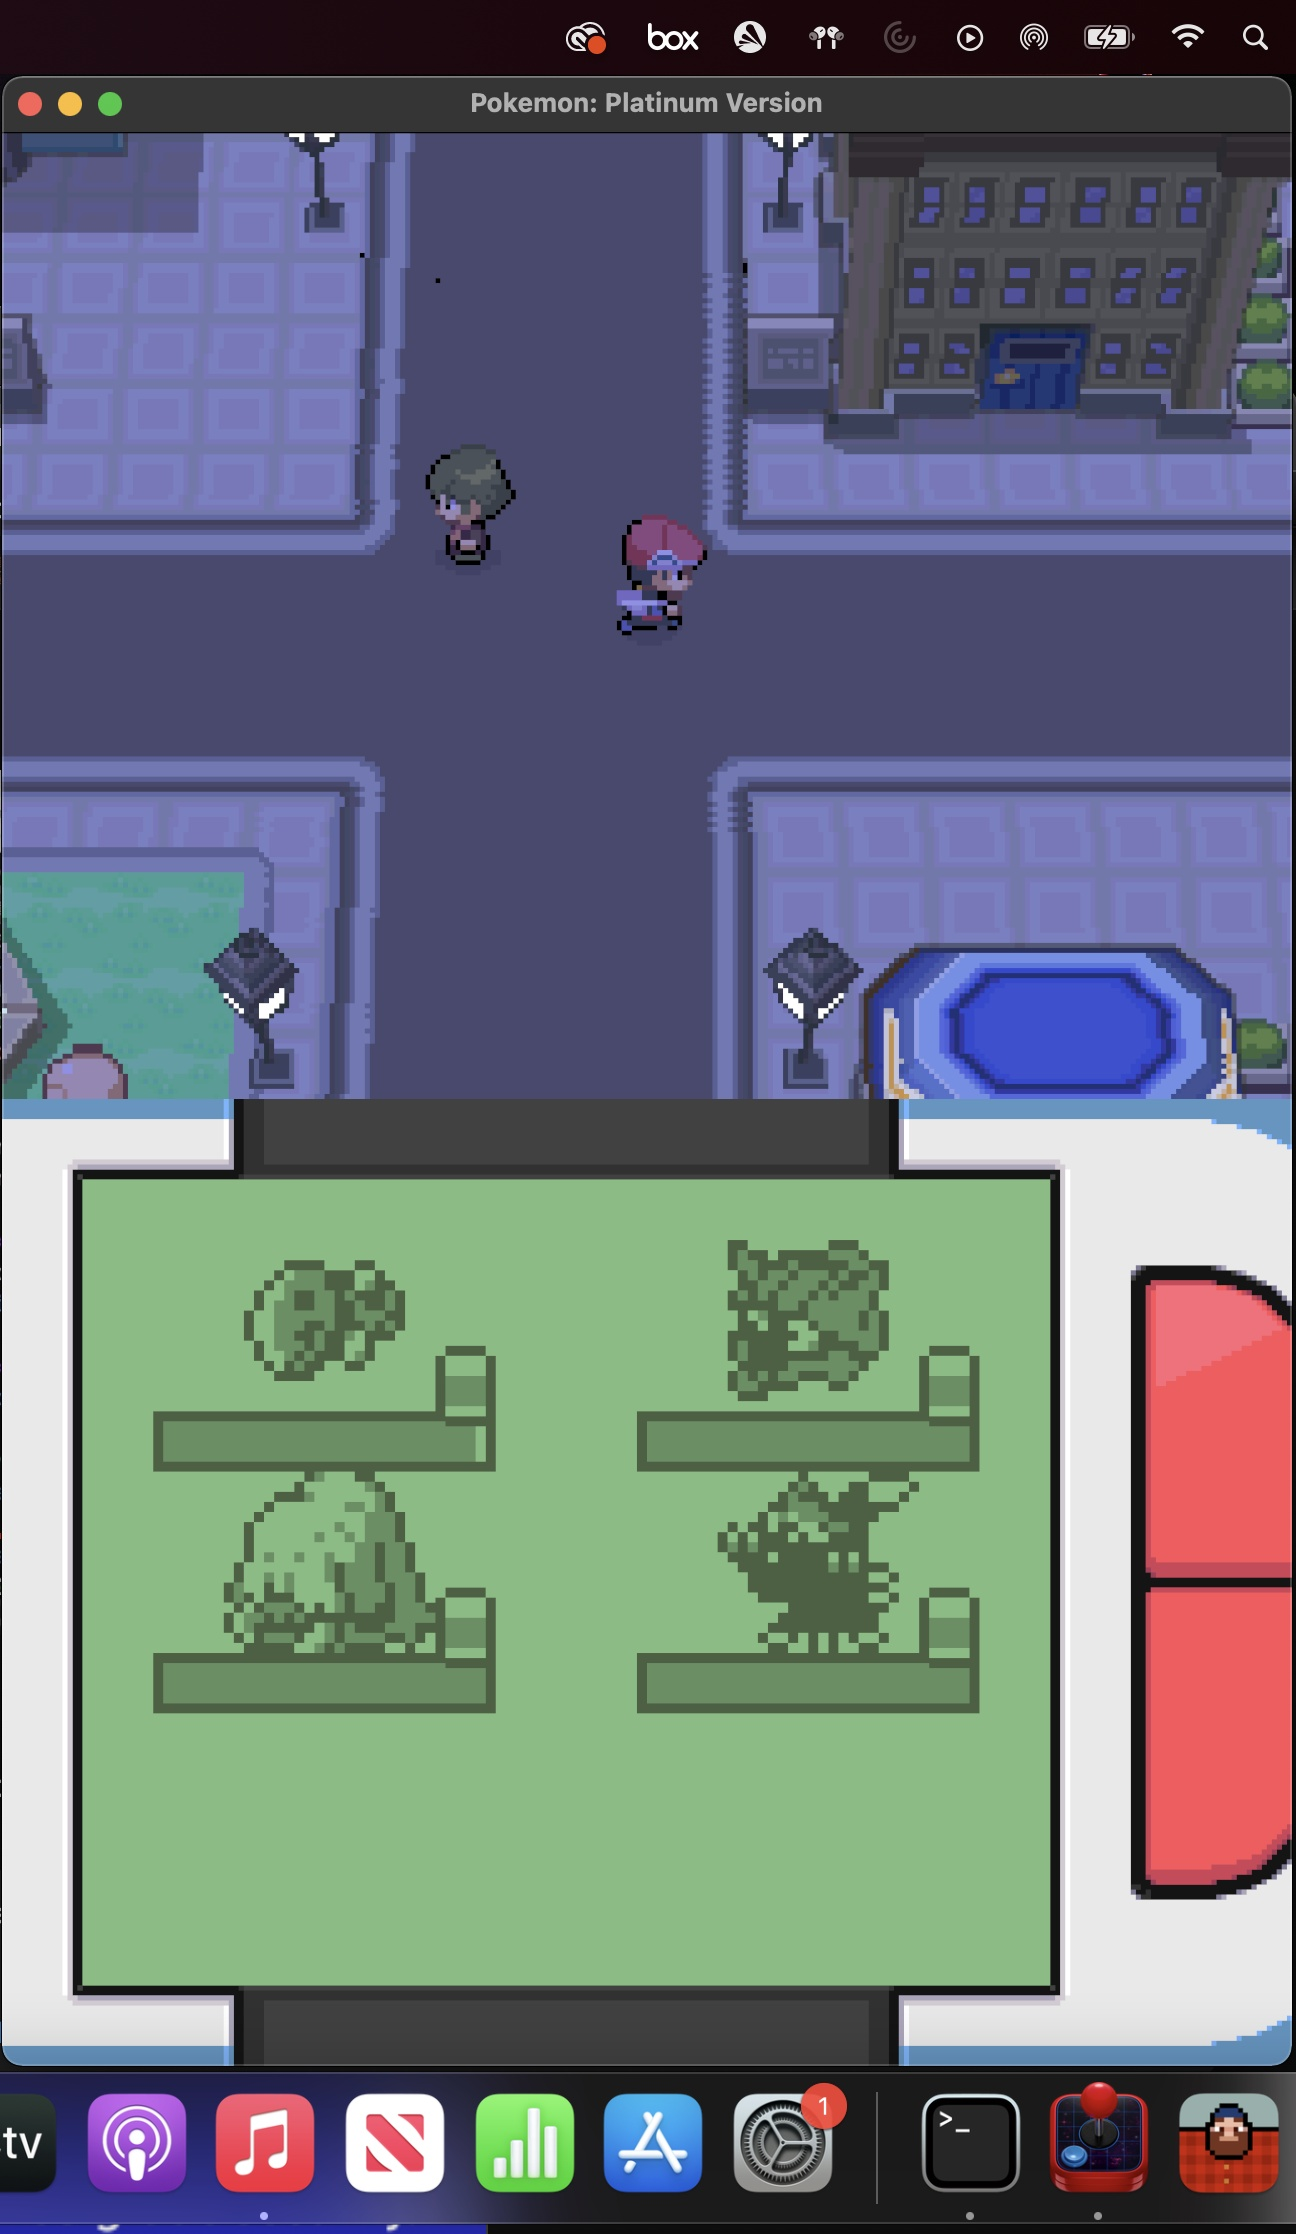player: (612, 506, 712, 640)
